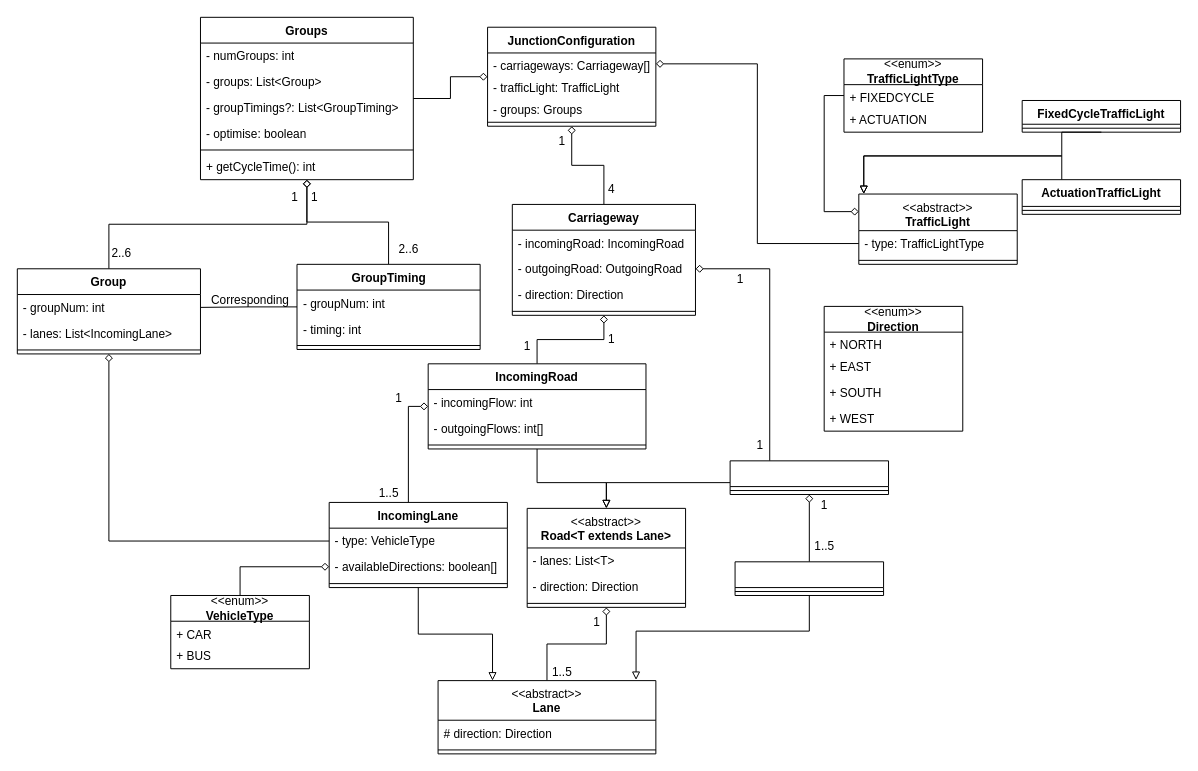
This 1198x771 diagram has some shape labels left out. The shapes that lost their labels are listed below. From the top down, each one's centre as x and y in pixels, then its label:
(809,477): OutgoingRoad
(809,578): OutgoingLane
